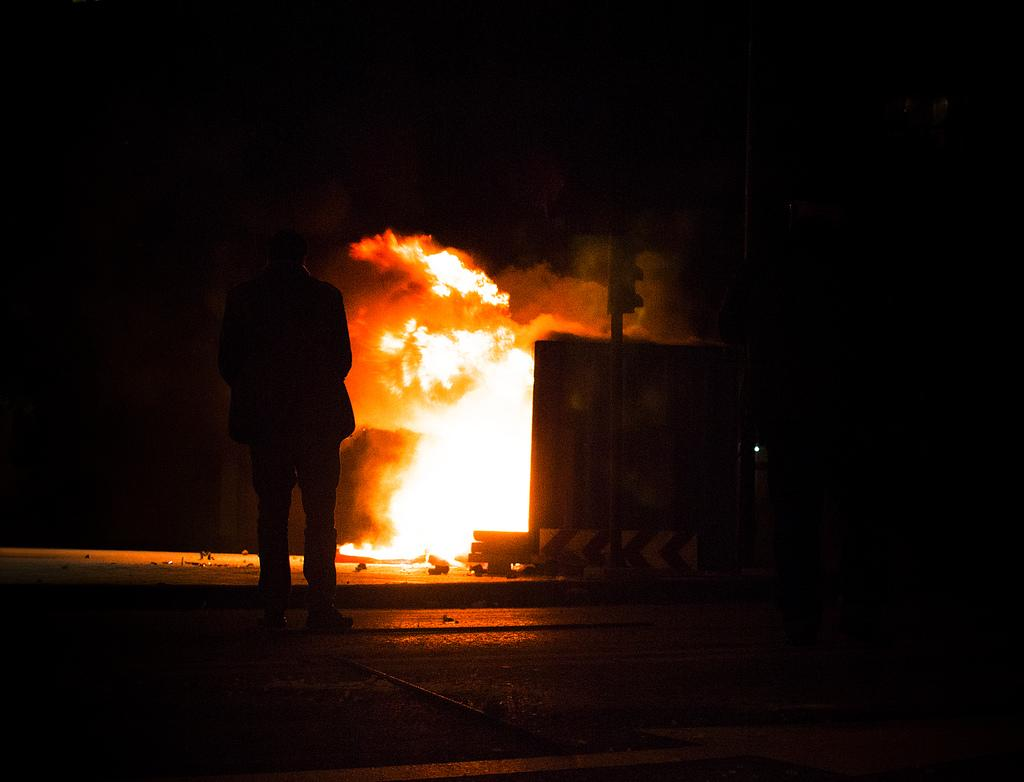fire: (430, 398, 526, 538), (410, 332, 510, 378), (420, 250, 488, 300)
